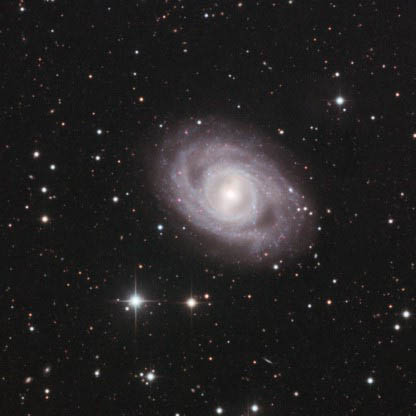Messier 95: (132, 109, 325, 275)
